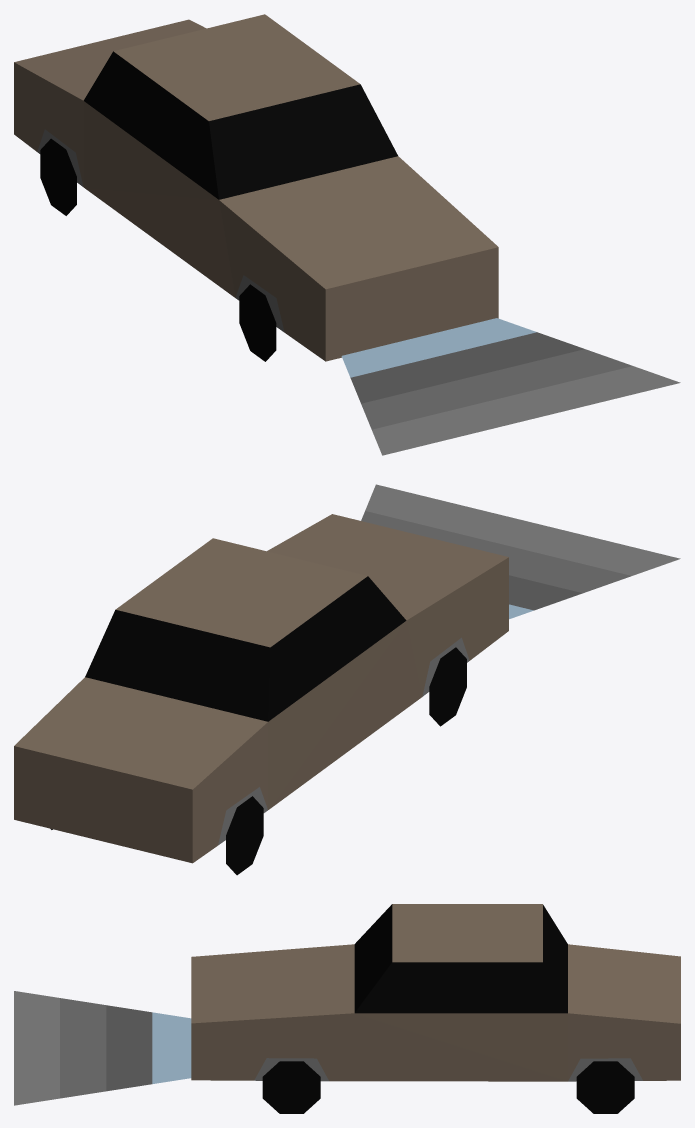
Rendered from AUTO4.glb.
3 renders of one model, top to bottom at view 1: azimuth 30°, elevation 25°; view 2: azimuth 150°, elevation 25°; view 3: azimuth 270°, elevation 25°, orthographic. The views are drawn at different scales.
Parts seen in each view (by area): view 1: AUTO4 | archived geometry; view 2: AUTO4 | archived geometry; view 3: AUTO4 | archived geometry.
Boxes of the visible parts, x1,y1,x2,y2 form: AUTO4 | archived geometry: (14, 14, 680, 455); AUTO4 | archived geometry: (14, 484, 680, 875); AUTO4 | archived geometry: (14, 904, 680, 1113).
Size of the model in its own units: 3.33 by 1.97 by 8.16.
